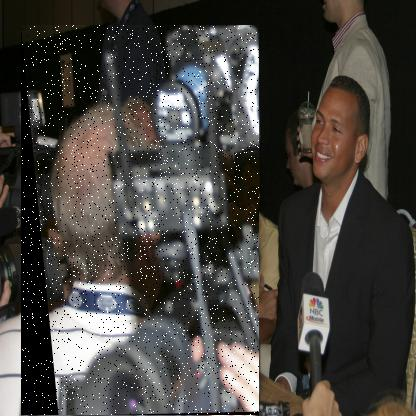Camera: (22, 26, 261, 416)
